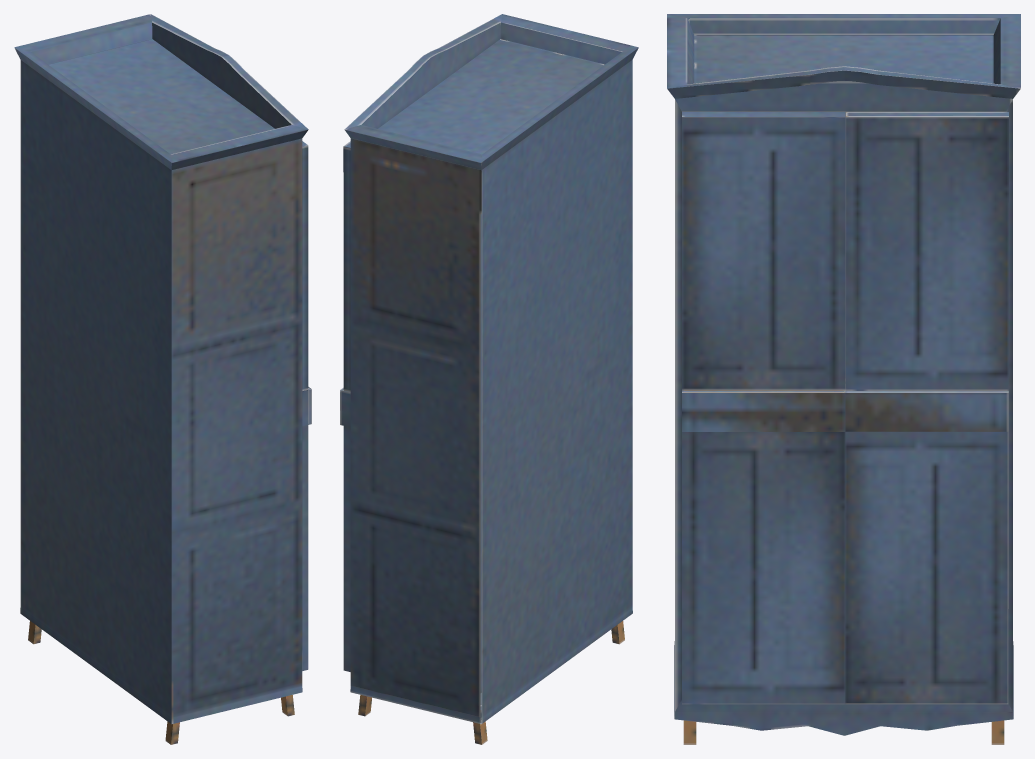
File: warn wardrobe.fbx
3 renders of one model, left to right at view 1: azimuth 30°, elevation 25°; view 2: azimuth 150°, elevation 25°; view 3: azimuth 270°, elevation 25°, orthographic. The views are drawn at different scales.
Parts seen in each view (by area): view 1: Warn Wardrobe, Warn Wardrobe Door2; view 2: Warn Wardrobe, Warn Wardrobe Door; view 3: Warn Wardrobe Door2, Warn Wardrobe Door, Warn Wardrobe.
Part boxes in pixels (x1,y1,x2,y2): Warn Wardrobe: [14, 14, 308, 744]; Warn Wardrobe Door2: [302, 141, 311, 670]; Warn Wardrobe: [344, 14, 638, 744]; Warn Wardrobe Door: [340, 141, 350, 671]; Warn Wardrobe Door2: [682, 112, 845, 704]; Warn Wardrobe Door: [845, 112, 1008, 704]; Warn Wardrobe: [667, 14, 1020, 744].
Size of the model in its own units: 112 by 442 by 209.
